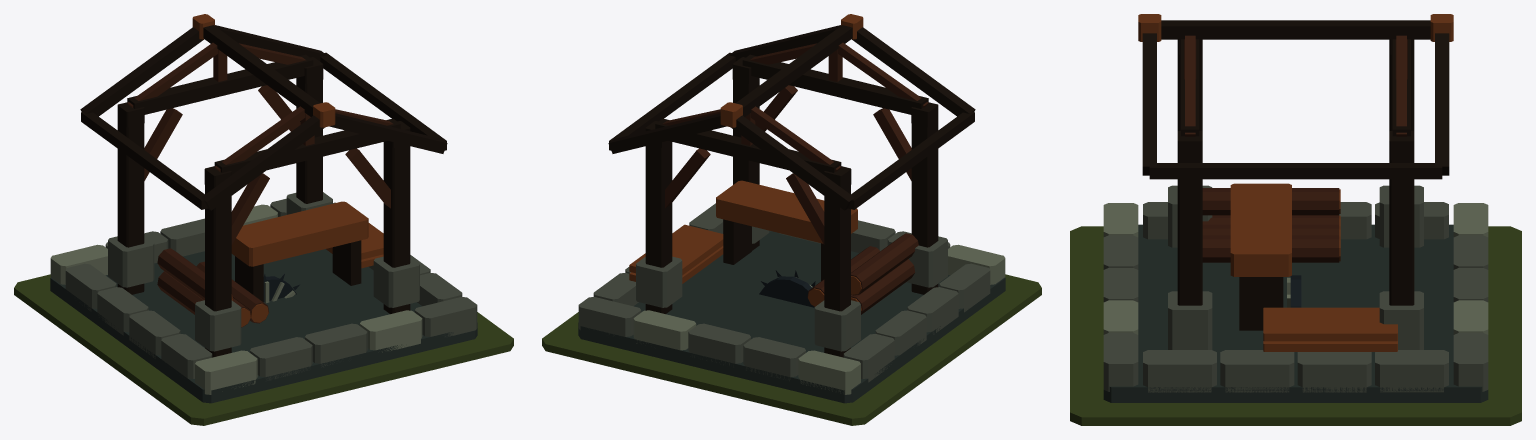
The model's file is sawmill_t1.glb.
The picture shows the model from 3 angles, left to right: view 1: azimuth 30°, elevation 25°; view 2: azimuth 150°, elevation 25°; view 3: azimuth 270°, elevation 25°; orthographic projection. The views are drawn at different scales.
Parts seen in each view (by area): view 1: MMR | sawmill | T01 Architecture.001, MMR | sawmill | Tier 01 Ground.001, MMR | sawmill | T01 Header Frame.001, MMR | sawmill | T01 Saw Blade.001; view 2: MMR | sawmill | T01 Architecture.001, MMR | sawmill | Tier 01 Ground.001, MMR | sawmill | T01 Header Frame.001, MMR | sawmill | T01 Saw Blade.001; view 3: MMR | sawmill | T01 Architecture.001, MMR | sawmill | Tier 01 Ground.001, MMR | sawmill | T01 Header Frame.001, MMR | sawmill | T01 Saw Blade.001.
Boxes of the visible parts, <box> form: MMR | sawmill | T01 Architecture.001: <box>50,14,477,403</box>; MMR | sawmill | Tier 01 Ground.001: <box>14,274,513,425</box>; MMR | sawmill | T01 Header Frame.001: <box>117,42,410,189</box>; MMR | sawmill | T01 Saw Blade.001: <box>263,274,299,303</box>; MMR | sawmill | T01 Architecture.001: <box>578,14,1005,403</box>; MMR | sawmill | Tier 01 Ground.001: <box>542,274,1041,425</box>; MMR | sawmill | T01 Header Frame.001: <box>645,42,938,189</box>; MMR | sawmill | T01 Saw Blade.001: <box>759,270,815,307</box>; MMR | sawmill | T01 Architecture.001: <box>1103,14,1488,402</box>; MMR | sawmill | Tier 01 Ground.001: <box>1070,226,1521,425</box>; MMR | sawmill | T01 Header Frame.001: <box>1177,35,1414,160</box>; MMR | sawmill | T01 Saw Blade.001: <box>1287,275,1301,307</box>.
Size of the model in its own units: 2.35 by 2.03 by 2.35.
Materials: 1 (1 with a texture image).
